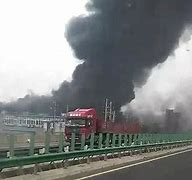smoke: (63, 1, 192, 103)
